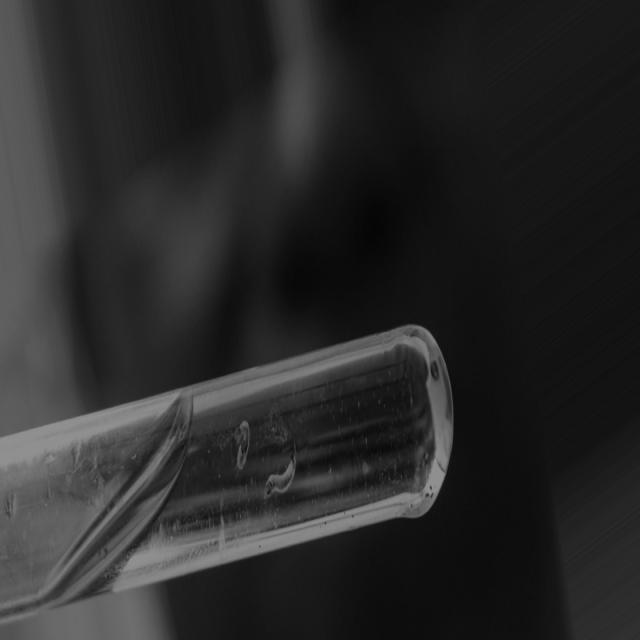larvas: (264, 455, 296, 492), (230, 424, 248, 464)
